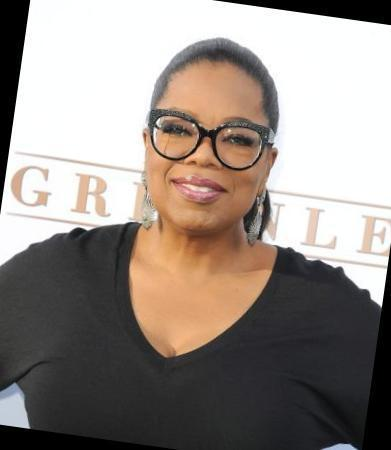Sober: (157, 68, 257, 228)
